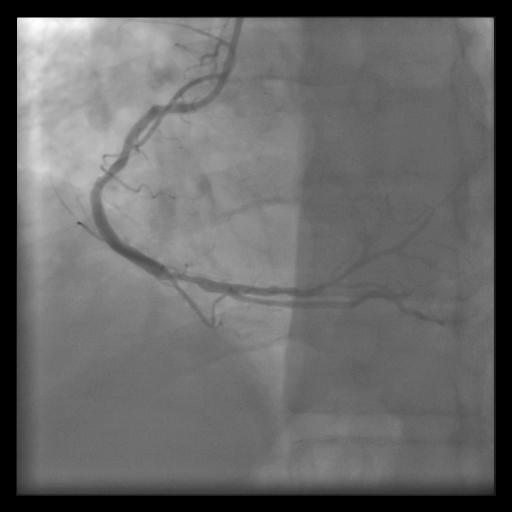Stenosis: (160, 259, 198, 294)
